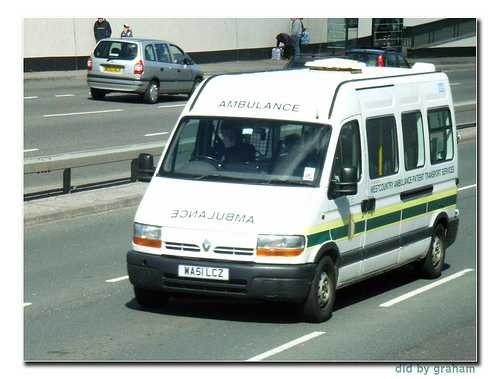Ambulance: (115, 48, 461, 317)
